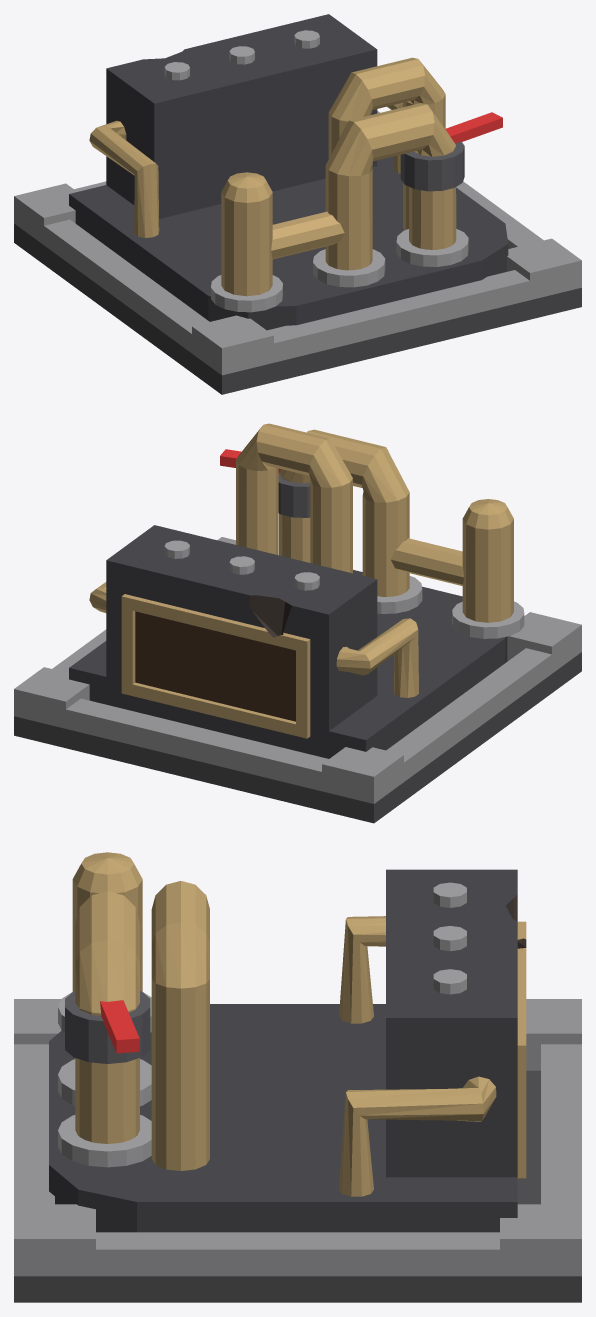
Rendered from vge_d_oxygenreclaimer.obj.
3 renders of one model, top to bottom at view 1: azimuth 30°, elevation 25°; view 2: azimuth 150°, elevation 25°; view 3: azimuth 270°, elevation 25°, orthographic. The views are drawn at different scales.
Parts seen in each view (by area): view 1: vge_d_oxygenreclaimer; view 2: vge_d_oxygenreclaimer; view 3: vge_d_oxygenreclaimer.
Boxes of the visible parts, bbox=[...] form: vge_d_oxygenreclaimer: bbox=[14, 14, 581, 394]; vge_d_oxygenreclaimer: bbox=[14, 423, 581, 823]; vge_d_oxygenreclaimer: bbox=[14, 852, 581, 1302].
Bounding box in the file's own units: 1.94 × 1.18 × 1.94.
